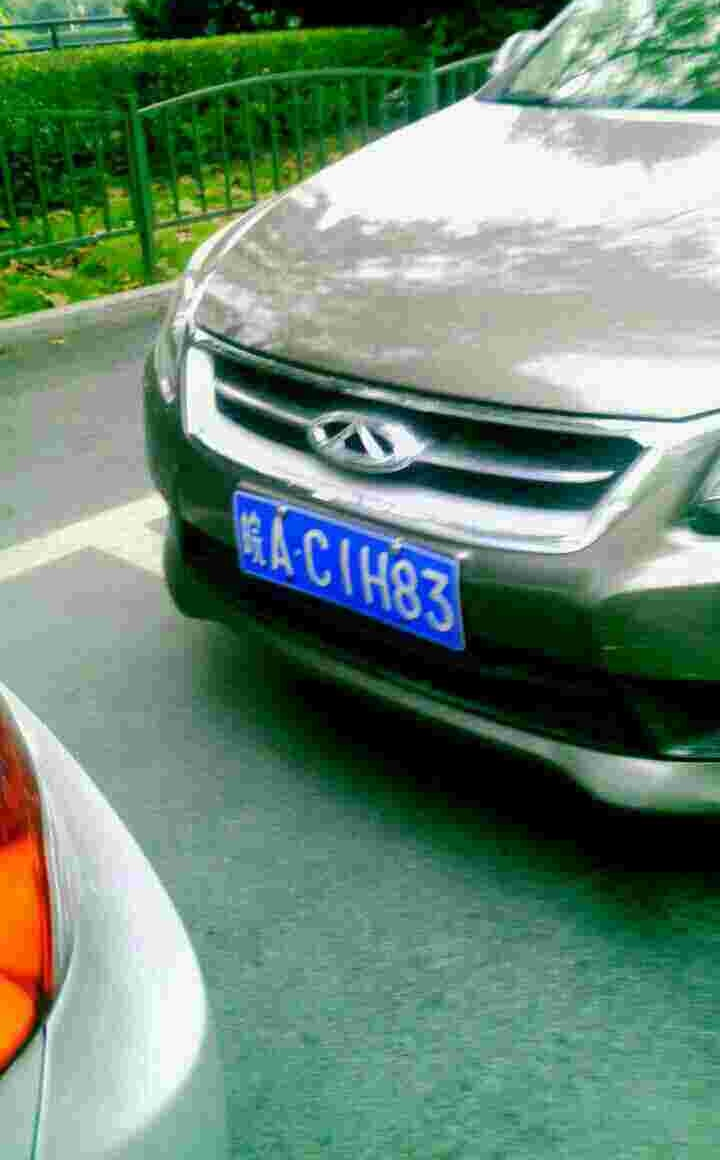license_plate: (244, 491, 470, 634)
